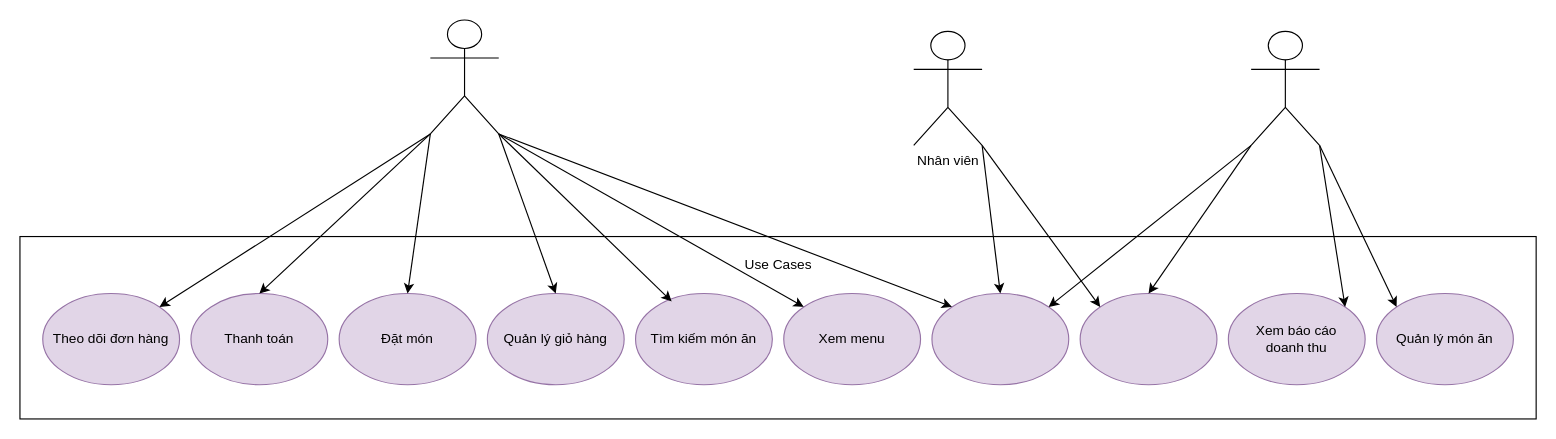
This 1556x439 diagram has some shape labels left out. The centre of each missing label's shape, as x and y in pixels:
Khách hàng: point 464,76
Quản lý: point 1285,87
Quản lý đơn hàng Cập nhập trạng thái: point 1148,338
Đăng nhập: point 1000,338
